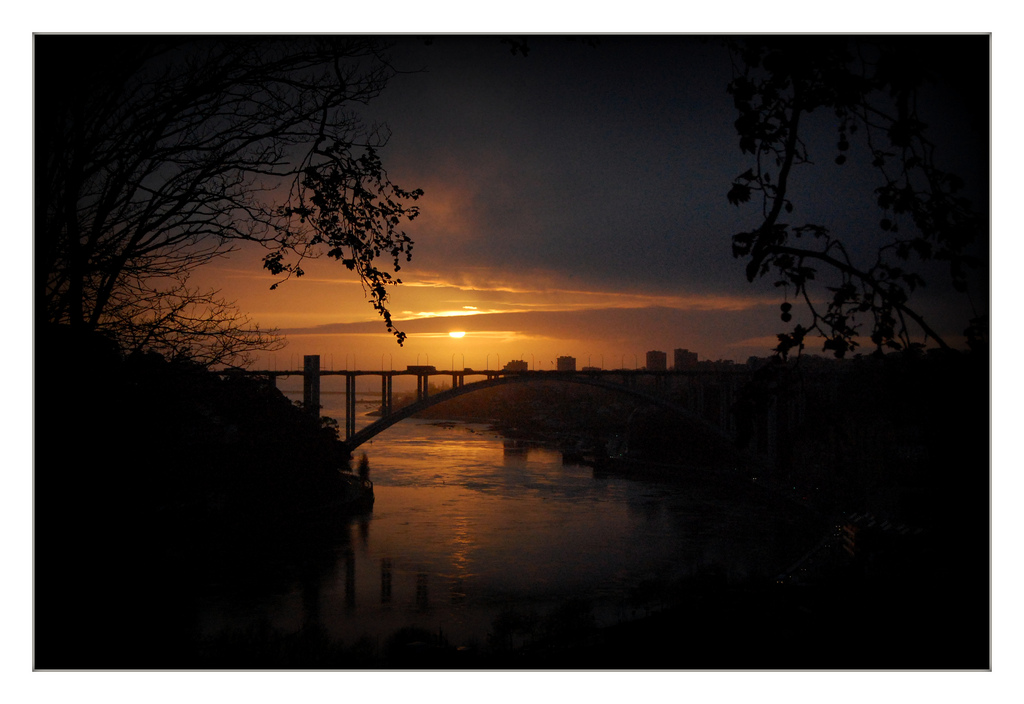arrabida: (236, 345, 719, 465)
